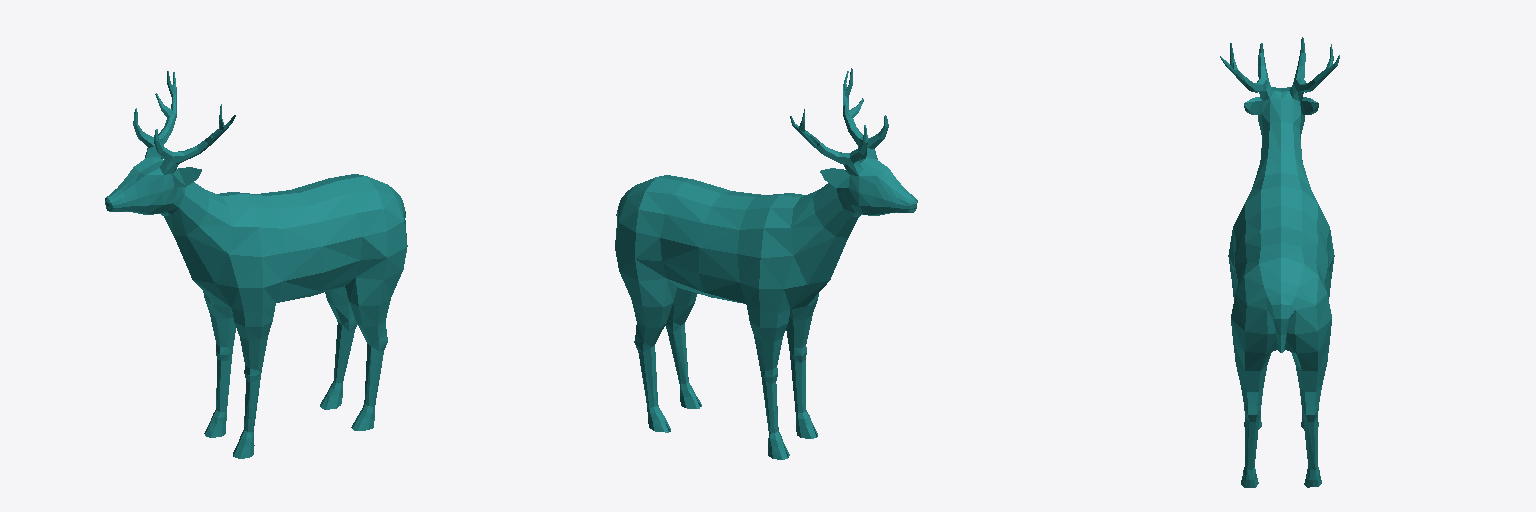
File: deer-obj.obj
3 renders of one model, left to right at view 1: azimuth 30°, elevation 25°; view 2: azimuth 150°, elevation 25°; view 3: azimuth 270°, elevation 25°, orthographic.
Visible parts, largest first — view 1: deer___UN; view 2: deer___UN; view 3: deer___UN.
Boxes of the visible parts, <box> form: deer___UN: <box>105,71,407,458</box>; deer___UN: <box>615,68,917,459</box>; deer___UN: <box>1220,37,1339,487</box>.
Bounding box in the file's own units: 23.25 × 27.39 × 8.13.